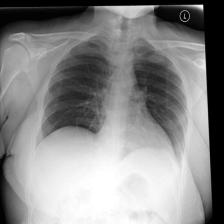normal: (34, 29, 192, 171)
